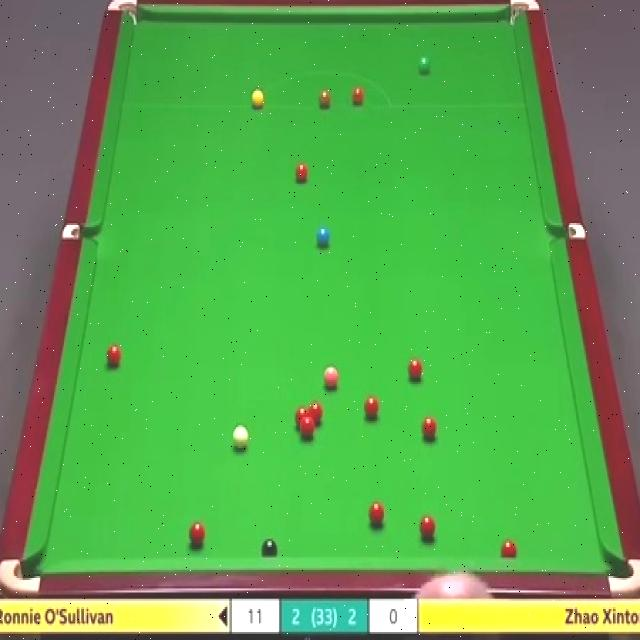black-ball: (261, 539, 278, 558)
blue-ball: (316, 225, 330, 249)
brown-ball: (317, 87, 331, 110)
green-ball: (416, 56, 432, 76)
pink-ball: (324, 362, 339, 390)
red-ball: (406, 356, 424, 386), (104, 342, 122, 370), (188, 521, 206, 548), (418, 515, 435, 543), (368, 500, 385, 528), (363, 395, 379, 421), (293, 160, 310, 184), (421, 413, 436, 440), (309, 402, 323, 428), (501, 538, 517, 558), (295, 407, 309, 428), (301, 419, 314, 440), (351, 84, 365, 103)
white-ball: (231, 422, 250, 457)
yellow-ball: (250, 88, 264, 108)
